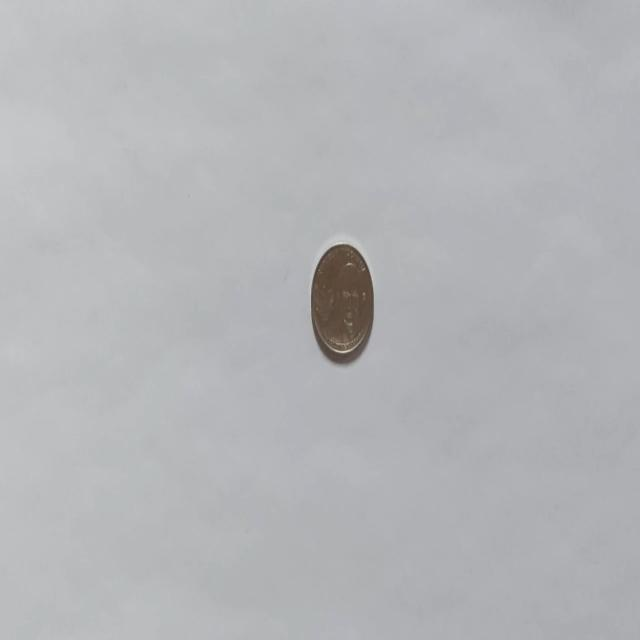seribu rupiah koin: (310, 238, 374, 360)
